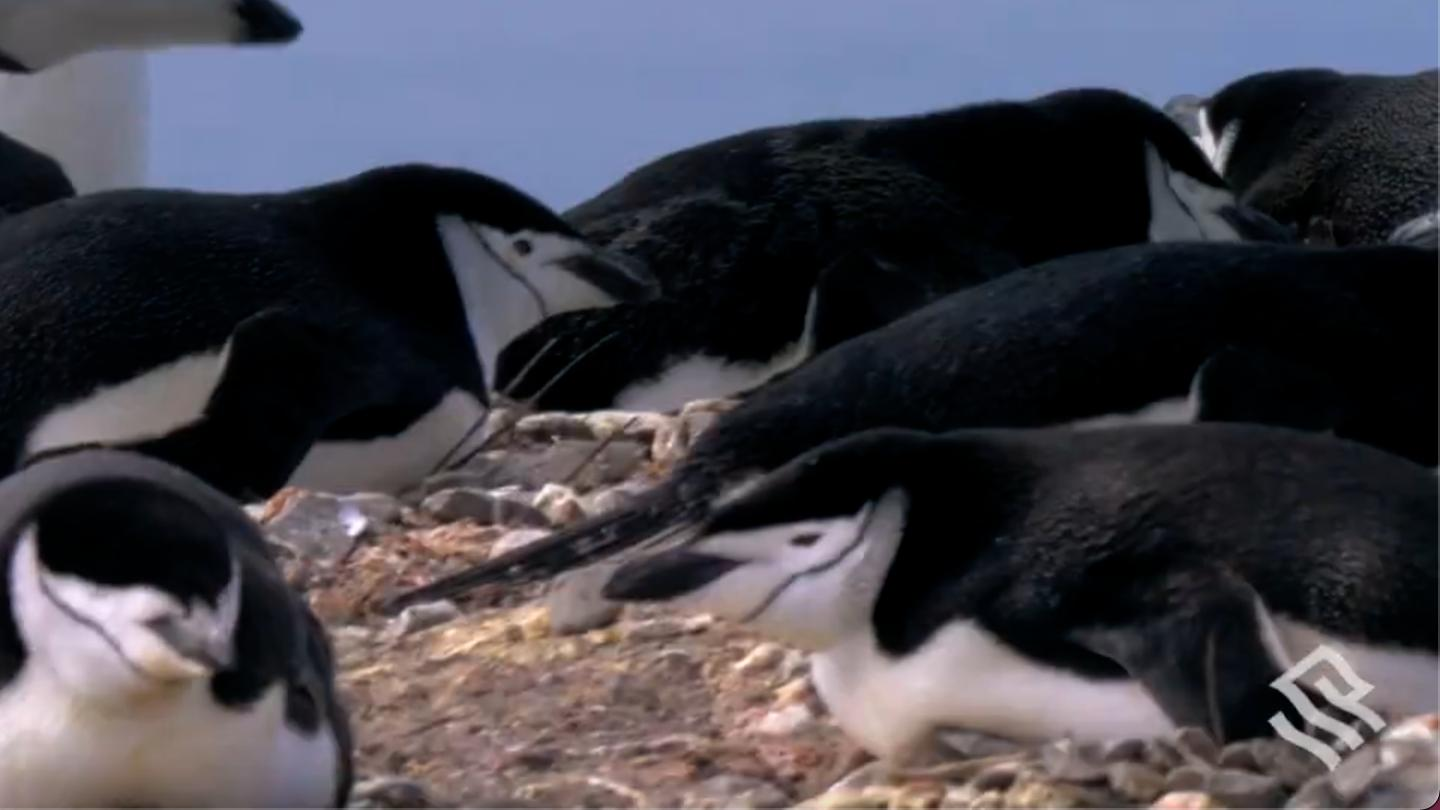Chinstrap Penguin: (607, 402, 1440, 765), (617, 403, 1440, 770), (0, 131, 676, 459), (0, 436, 403, 809), (0, 0, 332, 139), (0, 23, 79, 250)
